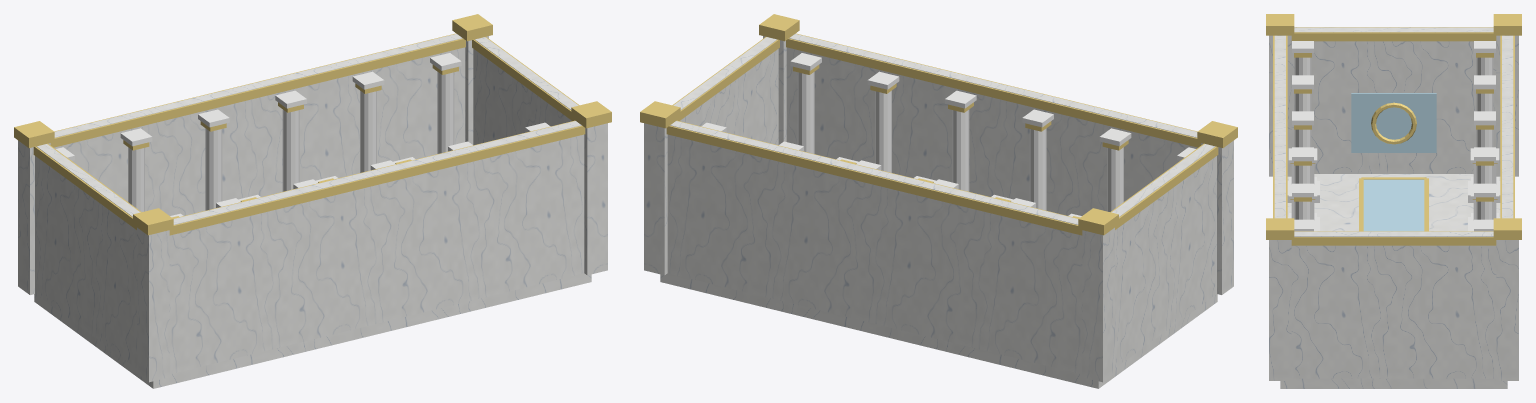
The model's file is west.glb.
3 renders of one model, left to right at view 1: azimuth 30°, elevation 25°; view 2: azimuth 150°, elevation 25°; view 3: azimuth 270°, elevation 25°, orthographic. The views are drawn at different scales.
Visible parts, largest first — view 1: W_Wall_S, W_Wall_N, W_Wall_Far, W_Floor, W_Wall_East, W_Post.001, W_Cornice_S, W_Cornice_N, W_Post.003, W_Post, Col_Shaft_2, Col_Shaft_3 (+10 smaller); view 2: W_Wall_N, W_Wall_S, W_Wall_Far, W_Floor, W_Wall_East, W_Post, W_Cornice_N, W_Cornice_S, W_Post.002, W_Post.001, Col_Shaft_8, Col_Shaft_9 (+10 smaller); view 3: W_Wall_East, W_Wall_Far, W_Floor, W_Niche, Runner_Field, W_Post.002, W_Post.003, W_Wall_N, W_Wall_S, W_Cornice_Far, W_Cornice_East, W_Post (+32 smaller).
Part boxes in pixels (left/top/right/bottom): W_Wall_S: left=169, top=121, right=584, bottom=374; W_Wall_N: left=54, top=33, right=465, bottom=215; W_Wall_Far: left=35, top=144, right=140, bottom=367; W_Floor: left=34, top=273, right=591, bottom=388; W_Wall_East: left=473, top=37, right=578, bottom=145; W_Post.001: left=137, top=227, right=169, bottom=382; W_Cornice_S: left=169, top=120, right=585, bottom=235; W_Cornice_N: left=50, top=33, right=465, bottom=147; W_Post.003: left=584, top=123, right=607, bottom=275; W_Post: left=18, top=140, right=50, bottom=294; Col_Shaft_2: left=282, top=109, right=299, bottom=191; Col_Shaft_3: left=205, top=128, right=222, bottom=210; W_Wall_N: left=667, top=121, right=1082, bottom=374; W_Wall_S: left=786, top=33, right=1197, bottom=215; W_Wall_Far: left=1111, top=144, right=1216, bottom=367; W_Floor: left=660, top=273, right=1217, bottom=388; W_Wall_East: left=673, top=37, right=778, bottom=145; W_Post: left=1082, top=227, right=1114, bottom=382; W_Cornice_N: left=666, top=120, right=1082, bottom=235; W_Cornice_S: left=786, top=33, right=1201, bottom=147; W_Post.002: left=644, top=123, right=667, bottom=275; W_Post.001: left=1201, top=140, right=1233, bottom=294; Col_Shaft_8: left=952, top=109, right=969, bottom=191; Col_Shaft_9: left=1029, top=128, right=1046, bottom=210; W_Wall_East: left=1291, top=231, right=1496, bottom=378; W_Wall_Far: left=1291, top=27, right=1496, bottom=173; W_Floor: left=1280, top=174, right=1507, bottom=388; W_Niche: left=1351, top=93, right=1436, bottom=152; Runner_Field: left=1363, top=179, right=1424, bottom=231; W_Post.002: left=1496, top=240, right=1518, bottom=380; W_Post.003: left=1269, top=240, right=1291, bottom=380; W_Wall_N: left=1502, top=35, right=1513, bottom=218; W_Wall_S: left=1274, top=35, right=1285, bottom=218; W_Cornice_Far: left=1291, top=27, right=1496, bottom=41; W_Cornice_East: left=1291, top=231, right=1496, bottom=245; W_Post: left=1496, top=35, right=1518, bottom=176.
Bounding box in the file's own units: 18 × 6.39 × 9.
Materials: 6 (1 with a texture image).
